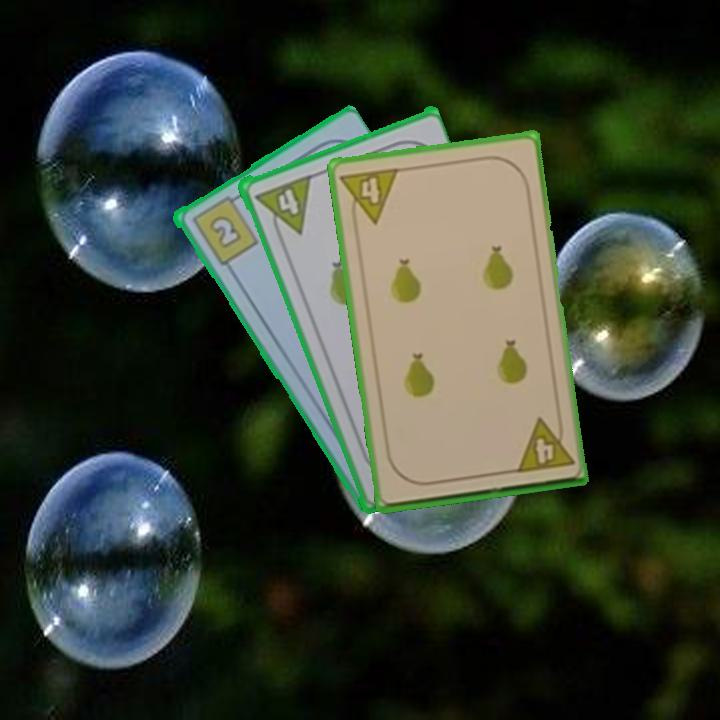2b: (187, 190, 261, 268)
4p: (250, 171, 314, 243), (337, 164, 402, 229), (512, 413, 577, 476)
